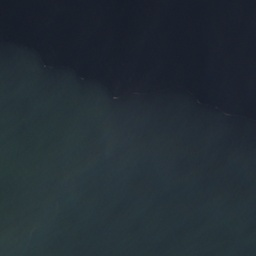Marine Debris: (112, 95, 120, 101)
